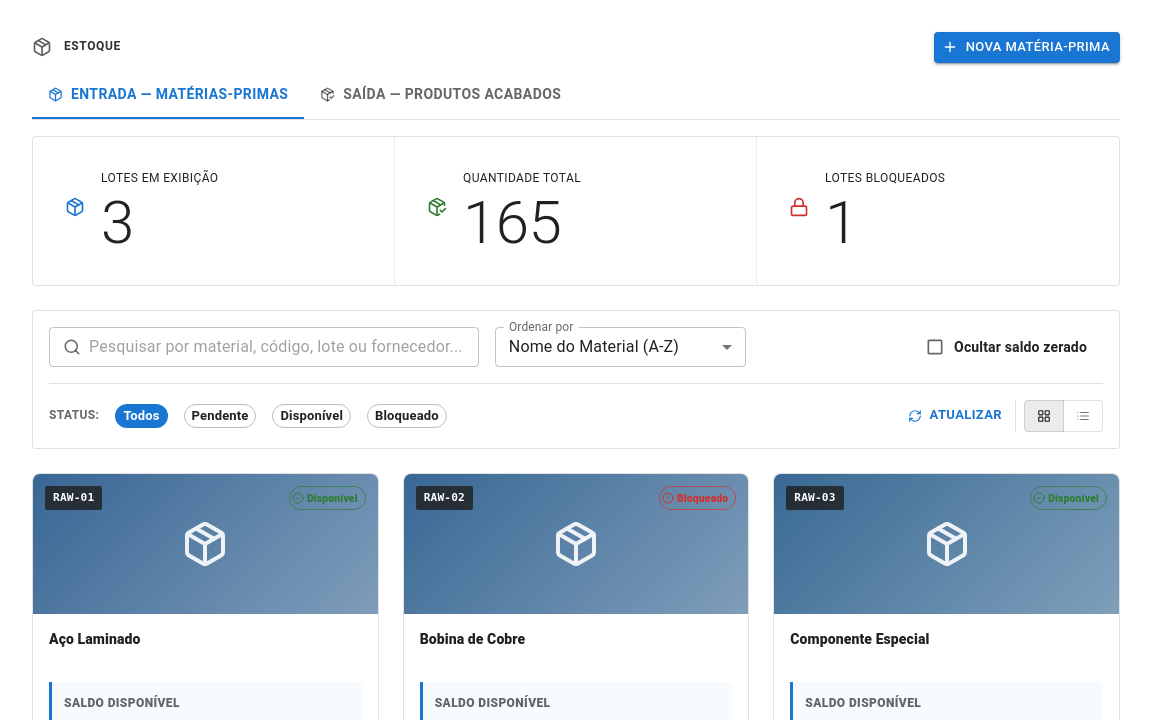
Test: InventoryStocksPage › hides zero stock when checkbox is checked
Expected: the heading "Bobina de Cobre" is shown, top-left (420, 631), bottom-right (525, 647)
Click the checkbox labelled "Ocultar saldo zerado": (1006, 347) top-left (925, 337), bottom-right (1087, 357)
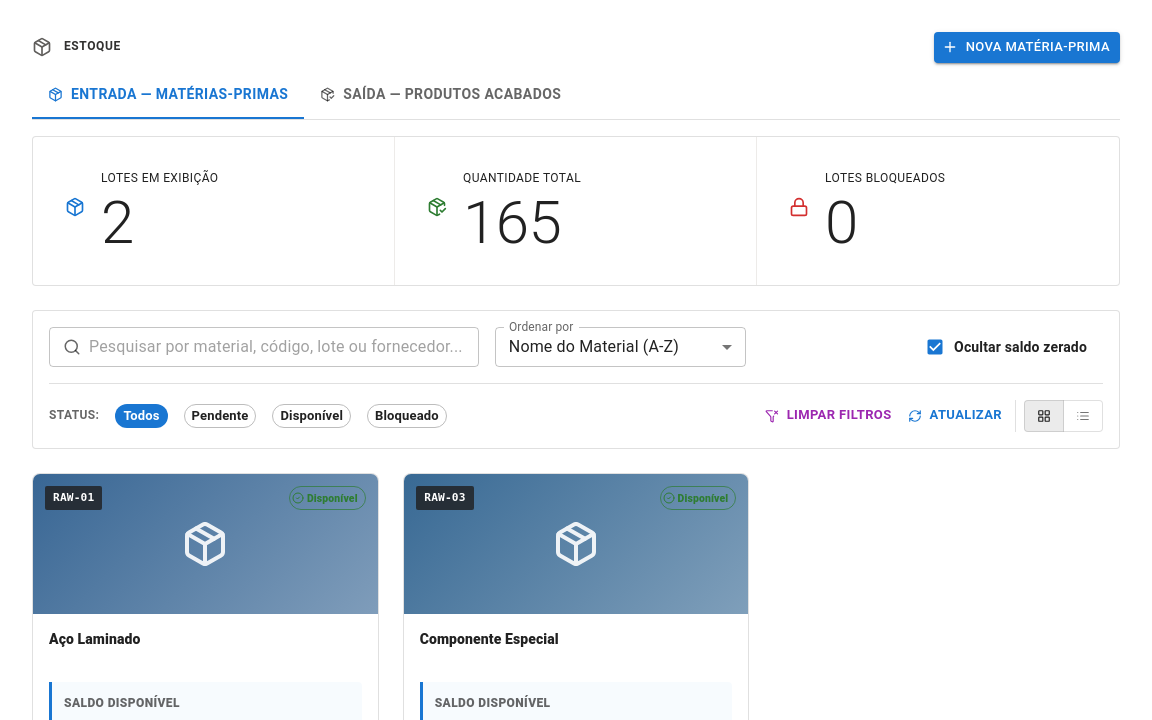
Expected: the heading "Aço Laminado" is shown, top-left (49, 631), bottom-right (140, 647)
Expected: the heading "Bobina de Cobre" is gone
